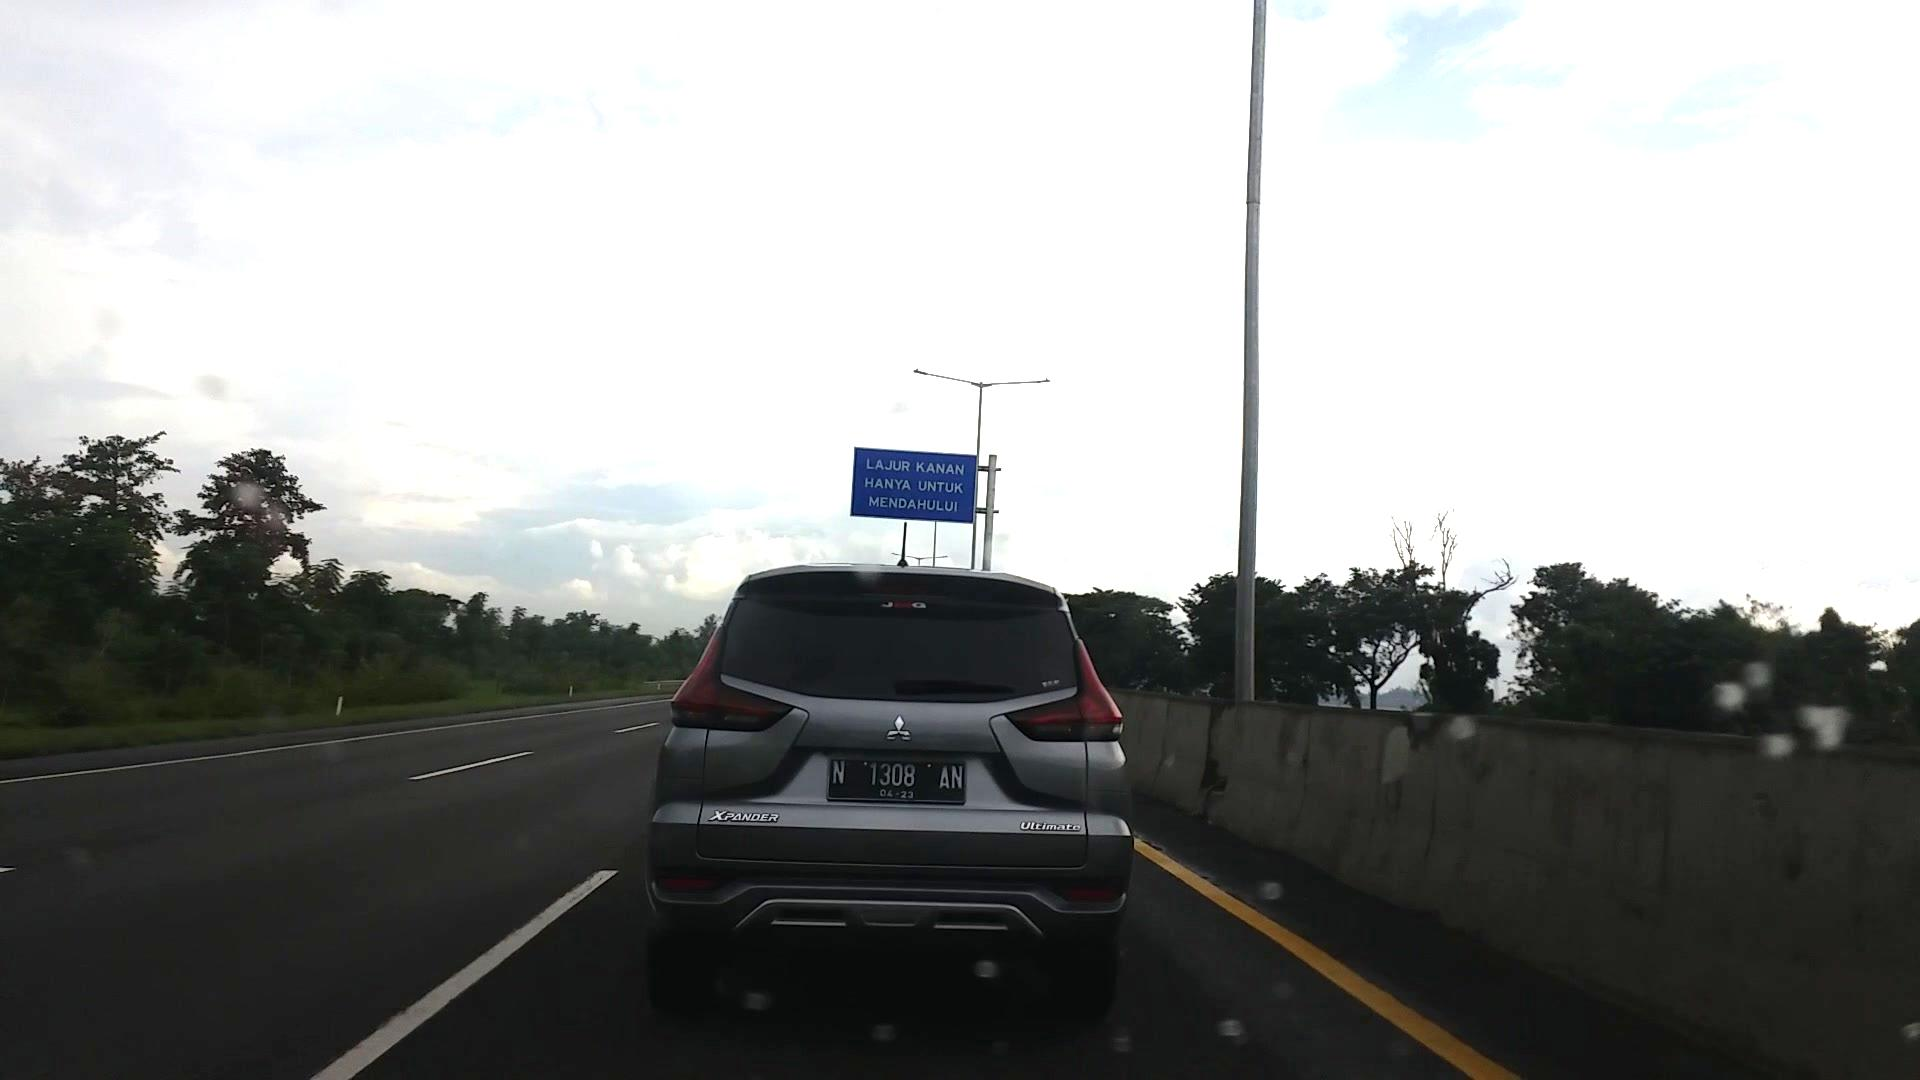plate_positive: (827, 758, 965, 804)
